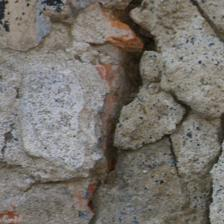Crack: (0, 5, 157, 76), (34, 8, 123, 118)
